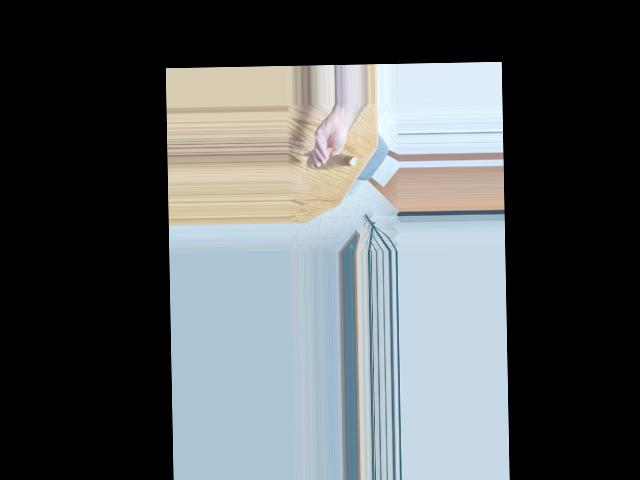sweet_potato: (310, 155, 351, 174)
